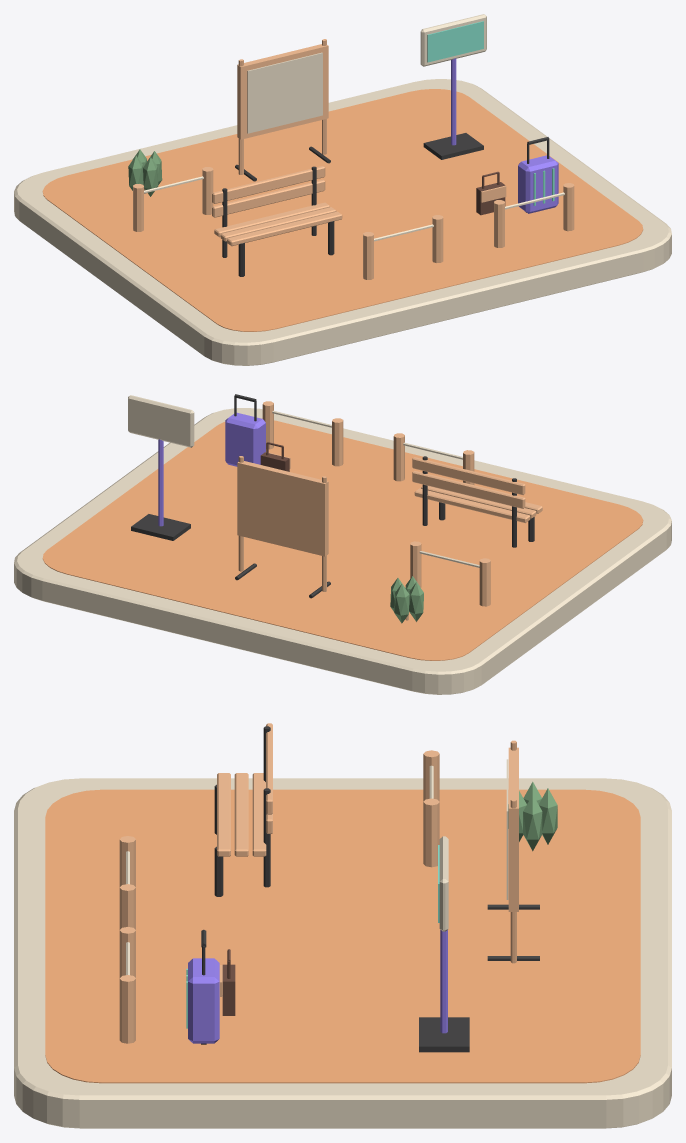
File: room.fbx
3 views of the same model, one above another, from view 1: azimuth 30°, elevation 25°; view 2: azimuth 150°, elevation 25°; view 3: azimuth 270°, elevation 25° (orthographic). The views are drawn at different scales.
Visible parts, largest first — view 1: COM-02 Floor Surface, COM-01 Rounded Base Direct, Art surface, Frame, Shell, Inset, Back slat, Back slat.001, Seat slat, Sign panel, Foot.002, Bag (+8 smaller); view 2: COM-02 Floor Surface, COM-01 Rounded Base Direct, Frame, Sign panel, Shell, Back slat, Back slat.001, Seat slat.002, Foot.002, Seat slat.001, Boundary post.002, Boundary post.004 (+6 smaller); view 3: COM-02 Floor Surface, COM-01 Rounded Base Direct, Shell, Frame, Foot.002, Seat slat.001, Seat slat, Boundary post.003, Boundary post.005, Seat slat.002, Sign panel, Bag (+8 smaller).
Part boxes in pixels (box(x1,y1,x2,y2)): COM-02 Floor Surface: box(42, 89, 643, 331); COM-01 Rounded Base Direct: box(14, 79, 671, 365); Art surface: box(247, 52, 322, 133); Frame: box(237, 44, 328, 139); Shell: box(518, 155, 558, 213); Inset: box(427, 21, 483, 62); Back slat: box(212, 179, 325, 217); Back slat.001: box(212, 166, 325, 203); Seat slat: box(227, 211, 342, 246); Sign panel: box(420, 14, 486, 66); Foot.002: box(423, 133, 483, 159); Bag: box(476, 171, 506, 215); COM-02 Floor Surface: box(42, 418, 643, 660); COM-01 Rounded Base Direct: box(14, 408, 671, 694); Frame: box(237, 461, 328, 556); Sign panel: box(128, 395, 194, 447); Shell: box(225, 412, 265, 466); Back slat: box(412, 471, 525, 508); Back slat.001: box(412, 457, 525, 494); Seat slat.002: box(414, 488, 530, 522); Foot.002: box(131, 514, 190, 540); Seat slat.001: box(421, 486, 536, 518); Boundary post.002: box(332, 418, 343, 466); Boundary post.004: box(479, 558, 490, 606); COM-02 Floor Surface: box(45, 789, 640, 1083); COM-01 Rounded Base Direct: box(14, 778, 671, 1128); Shell: box(188, 958, 219, 1043); Frame: box(508, 747, 518, 911); Foot.002: box(419, 1017, 469, 1052); Seat slat.001: box(234, 773, 248, 856); Seat slat: box(217, 773, 230, 856); Boundary post.003: box(119, 975, 135, 1043); Boundary post.005: box(423, 798, 439, 867); Seat slat.002: box(252, 773, 266, 856); Sign panel: box(439, 836, 448, 931); Bag: box(220, 949, 235, 1015).
Bounding box in the file's own units: 600 × 187 × 520.
